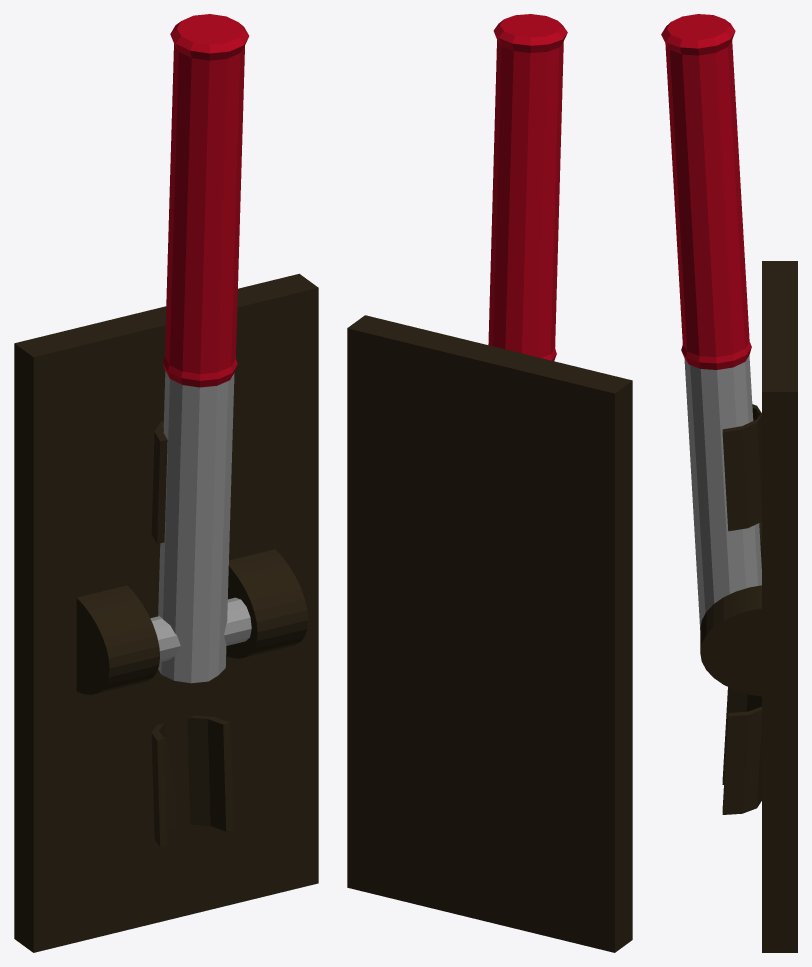
File: props.fbx_lever4.fbx
3 views of the same model, side by side, from view 1: azimuth 30°, elevation 25°; view 2: azimuth 150°, elevation 25°; view 3: azimuth 270°, elevation 25° (orthographic). The views are drawn at different scales.
Parts seen in each view (by area): view 1: Cube.005, Cylinder.005; view 2: Cube.005, Cylinder.005; view 3: Cube.005, Cylinder.005.
Part boxes in pixels (left/top/right/bottom): Cube.005: left=14, top=273, right=318, bottom=952; Cylinder.005: left=150, top=14, right=251, bottom=683; Cube.005: left=347, top=315, right=632, bottom=952; Cylinder.005: left=488, top=14, right=567, bottom=360; Cube.005: left=700, top=261, right=797, bottom=952; Cylinder.005: left=661, top=14, right=761, bottom=629.
Size of the model in its own units: 0.2858 by 0.8769 by 0.1262.
